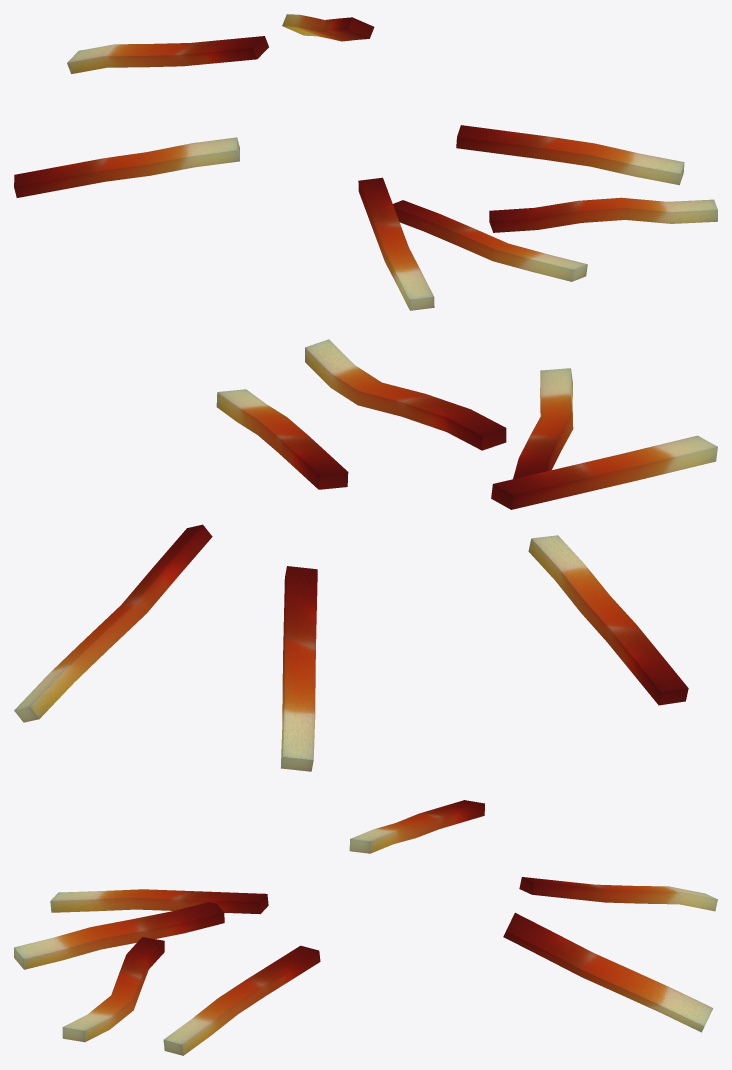
File: onion.glb
3 renders of one model, top to bottom at view 1: azimuth 30°, elevation 25°; view 2: azimuth 150°, elevation 25°; view 3: azimuth 270°, elevation 25°, orthographic. The views are drawn at different scales.
Parts seen in each view (by area): view 1: onion 7_18; view 2: onion 7_18; view 3: onion 7_18.
Part boxes in pixels (x1=…): onion 7_18: x1=14, y1=14, x2=717, y2=310; onion 7_18: x1=14, y1=339, x2=717, y2=771; onion 7_18: x1=14, y1=800, x2=717, y2=1055.
Bounding box in the file's own units: 0.5379 × 0.0985 × 0.6449.
Materials: 1 (1 with a texture image).
